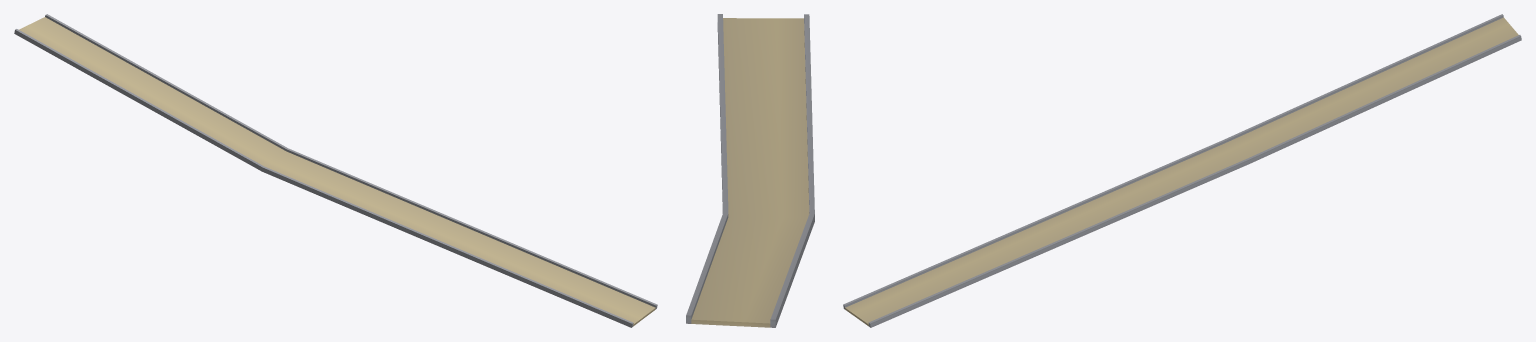
Rendered from sidewalk_1.fbx.
3 renders of one model, left to right at view 1: azimuth 30°, elevation 25°; view 2: azimuth 150°, elevation 25°; view 3: azimuth 270°, elevation 25°, orthographic. The views are drawn at different scales.
Parts seen in each view (by area): view 1: sidewalk_00; view 2: sidewalk_00; view 3: sidewalk_00.
Boxes of the visible parts, bbox=[...] form: sidewalk_00: bbox=[14, 14, 657, 327]; sidewalk_00: bbox=[686, 14, 814, 327]; sidewalk_00: bbox=[843, 14, 1521, 327].
Bounding box in the file's own units: 2.19 × 0.8579 × 3.67.
Materials: 1 (1 with a texture image).
